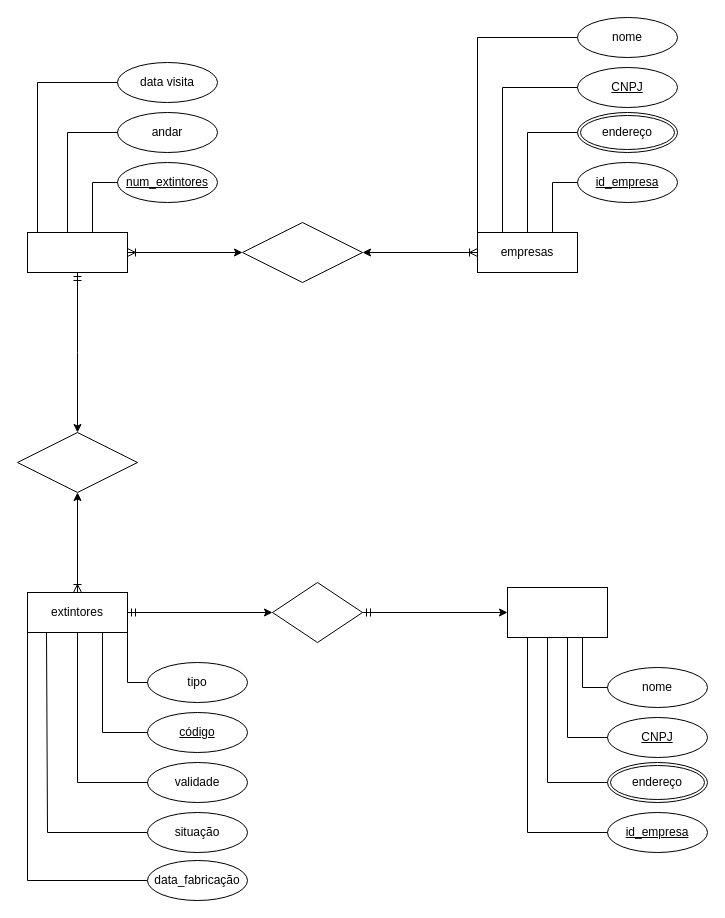
This 725x918 diagram has some shape labels left out. The centre of each missing label's shape, as x and y in pixels:
"contrata" goes at pixel 302 252.
"fabricantes" goes at pixel 557 612.
"possui" goes at pixel 317 612.
"prédio" goes at pixel 77 252.
"recarrega" goes at pixel 77 462.
